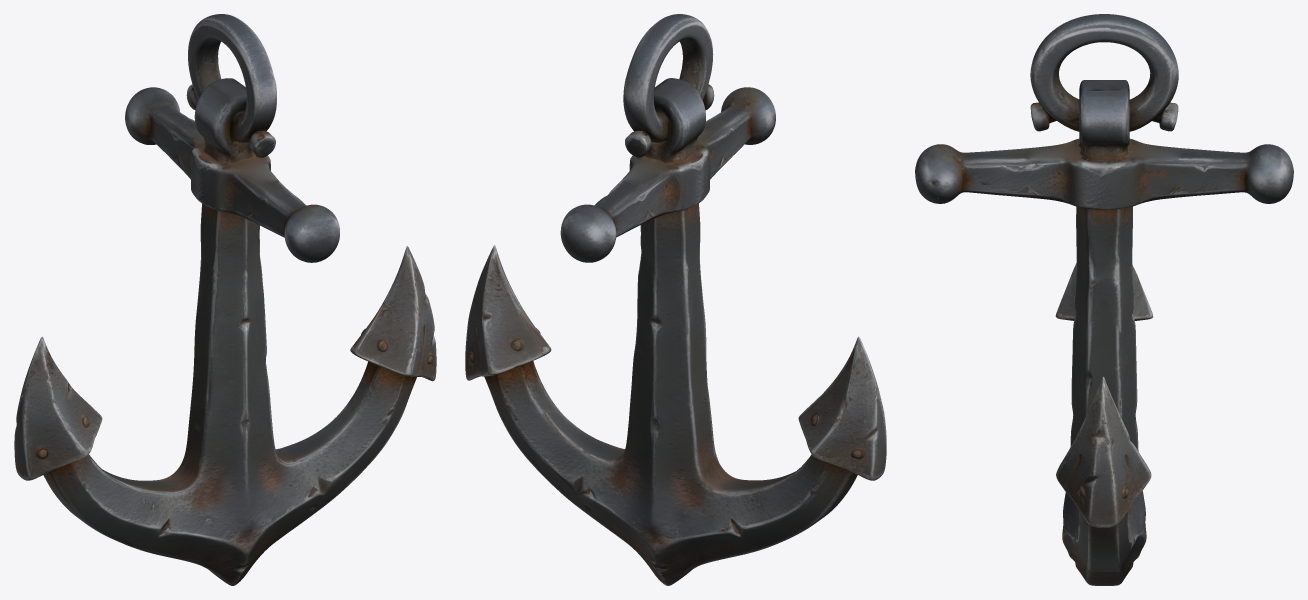
Rendered from Anchor_Mobile_2048.glb.
3 renders of one model, left to right at view 1: azimuth 30°, elevation 25°; view 2: azimuth 150°, elevation 25°; view 3: azimuth 270°, elevation 25°, orthographic. The views are drawn at different scales.
Parts seen in each view (by area): view 1: node_0; view 2: node_0; view 3: node_0.
Boxes of the visible parts, left/top/right/bottom form: node_0: left=14, top=14, right=436, bottom=585; node_0: left=465, top=14, right=886, bottom=585; node_0: left=915, top=14, right=1293, bottom=585.
Size of the model in its own units: 0.9209 by 1.2 by 0.7191.
Materials: 1 (1 with a texture image).
